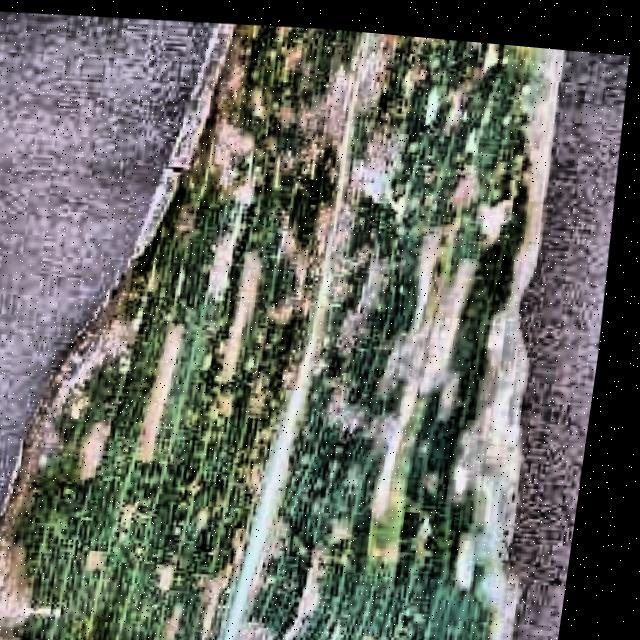gray_spot: (42, 12, 614, 640)
